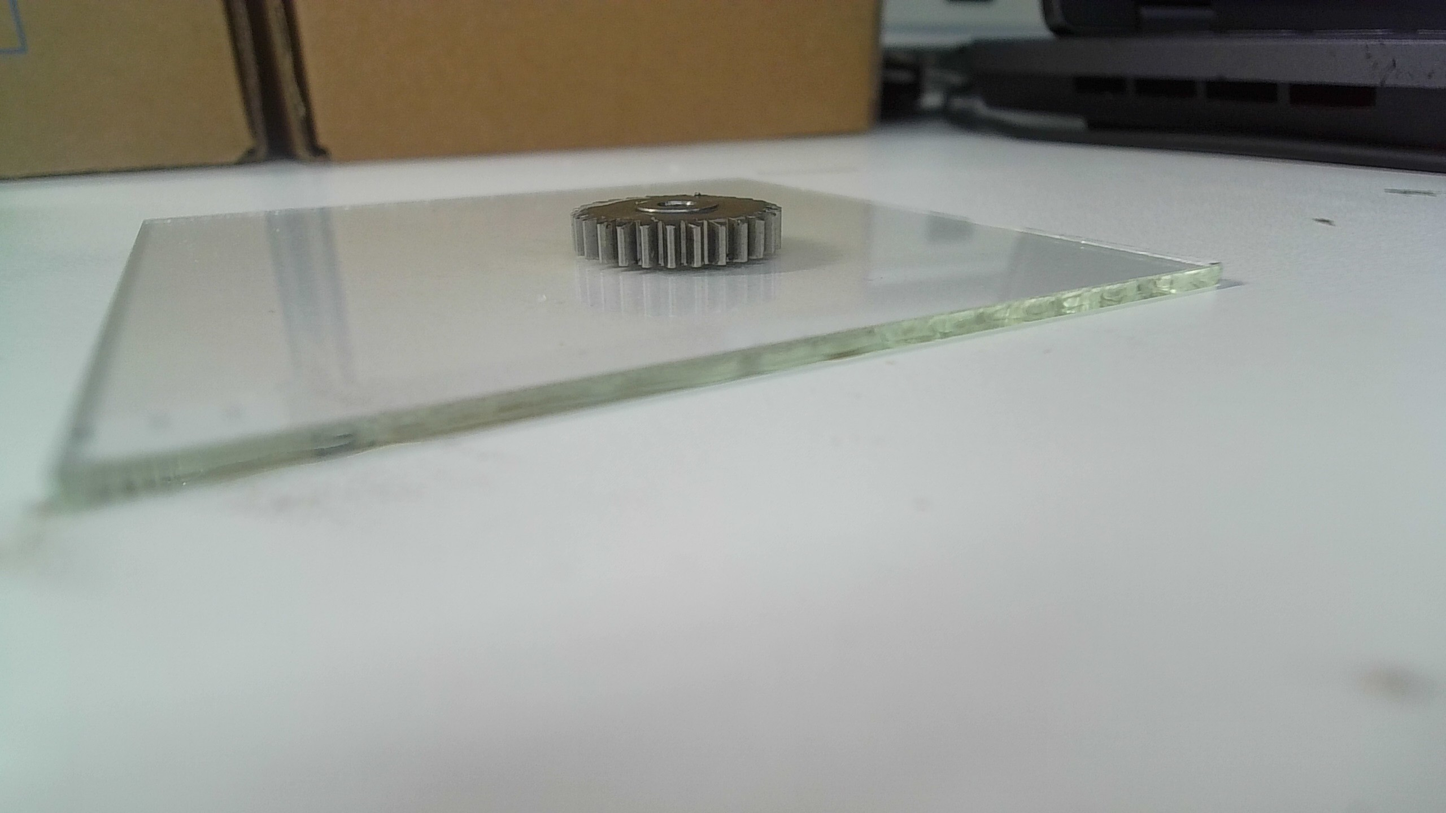gear: (569, 190, 787, 274)
